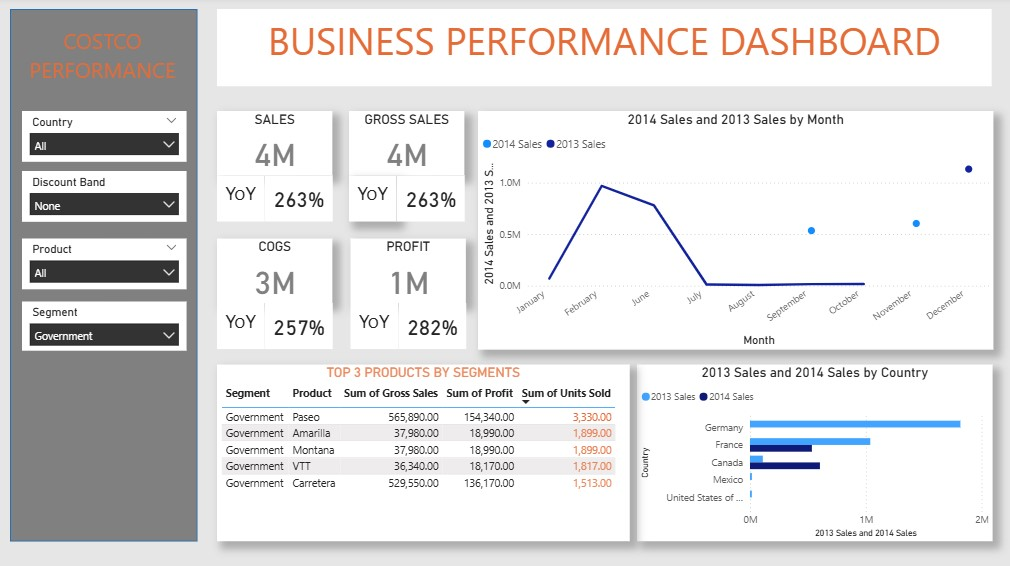

What the dashboard file says about the page in this screenshot:
{"tool":"powerbi","page":{"name":"Page 1","canvas":[1280,720],"ordinal":0},"visuals":[{"type":"shape","box":[15.1,15.1,236.2,670.9],"z":0},{"type":"textbox","box":[276.9,15.9,975.9,97.6],"z":1000},{"type":"card","title":"SALES","fields":{"Values":["Sum(financials. Sales)"]},"box":[276.9,143.4,145.4,81.7],"z":2000},{"type":"card","title":"PROFIT","fields":{"Values":["Sum(financials.Profit)"]},"box":[444.2,304.7,145.4,81.7],"z":3000},{"type":"card","title":"COGS","fields":{"Values":["Sum(financials.COGS)"]},"box":[276.9,304.7,145.4,81.7],"z":4000},{"type":"card","title":"GROSS SALES","fields":{"Values":["Sum(financials.Gross Sales)"]},"box":[442.2,143.4,145.4,81.7],"z":5000},{"type":"card","title":"SALES","fields":{"Values":["financials. Sales YoY%"]},"box":[336.6,225.1,85.6,57.8],"z":6000},{"type":"textbox","box":[276.9,225.1,59.8,57.8],"z":7000},{"type":"textbox","box":[276.9,386.4,59.8,57.8],"z":8000},{"type":"textbox","box":[444.2,386.4,59.8,57.8],"z":9000},{"type":"textbox","box":[442.2,225.1,59.8,57.8],"z":10000},{"type":"card","title":"SALES","fields":{"Values":["financials.COGS YoY%"]},"box":[336.6,386.4,85.6,57.8],"z":11000},{"type":"card","title":"SALES","fields":{"Values":["financials.Profit YoY%"]},"box":[503.9,386.4,85.6,57.8],"z":12000},{"type":"card","title":"SALES","fields":{"Values":["financials.Gross Sales YoY%"]},"box":[501.9,225.1,85.6,57.8],"z":13000},{"type":"lineChart","fields":{"Category":["financials.Date.Variation.Date Hierarchy.Month"],"Y":["financials.2014 Sales","financials.2013 Sales"]},"box":[605.5,143.4,649.3,300.8],"z":14000},{"type":"clusteredBarChart","fields":{"Category":["financials.Country"],"Y":["financials.2013 Sales","financials.2014 Sales"]},"box":[805,463,447.9,223],"z":15000},{"type":"tableEx","title":"TOP 3 PRODUCTS BY SEGMENTS","fields":{"Values":["financials.Segment","financials.Product","Sum(financials.Gross Sales)","Sum(financials.Profit)","Sum(financials.Units Sold)"]},"box":[275.9,463,519.7,223],"z":16000},{"type":"slicer","fields":{"Values":["financials.Country"]},"box":[29.9,143.4,207.1,63.7],"z":17000},{"type":"slicer","fields":{"Values":["financials.Discount Band"]},"box":[29.9,219.1,207.1,63.7],"z":18000},{"type":"slicer","fields":{"Values":["financials.Segment"]},"box":[29.9,384.4,207.1,61.7],"z":19000},{"type":"slicer","fields":{"Values":["financials.Product"]},"box":[29.9,304.7,207.1,63.7],"z":20000},{"type":"textbox","box":[13.9,31.9,237,97.6],"z":21000}]}

Visuals, with their boxes in screenshot pixels (x1, y1, x2, y2), scaled from the page's 1280x720 canvas onto the 1010x566 screenshot:
shape: [left=12, top=12, right=198, bottom=539]
textbox: [left=218, top=12, right=989, bottom=89]
"SALES" card: [left=218, top=113, right=333, bottom=177]
"PROFIT" card: [left=351, top=240, right=465, bottom=304]
"COGS" card: [left=218, top=240, right=333, bottom=304]
"GROSS SALES" card: [left=349, top=113, right=464, bottom=177]
"SALES" card: [left=266, top=177, right=333, bottom=222]
textbox: [left=218, top=177, right=266, bottom=222]
textbox: [left=218, top=304, right=266, bottom=349]
textbox: [left=351, top=304, right=398, bottom=349]
textbox: [left=349, top=177, right=396, bottom=222]
"SALES" card: [left=266, top=304, right=333, bottom=349]
"SALES" card: [left=398, top=304, right=465, bottom=349]
"SALES" card: [left=396, top=177, right=464, bottom=222]
lineChart - financials.Date.Variation.Date Hierarchy.Month x financials.2014 Sales: [left=478, top=113, right=990, bottom=349]
clusteredBarChart - financials.Country x financials.2013 Sales: [left=635, top=364, right=989, bottom=539]
"TOP 3 PRODUCTS BY SEGMENTS" tableEx: [left=218, top=364, right=628, bottom=539]
slicer - financials.Country: [left=24, top=113, right=187, bottom=163]
slicer - financials.Discount Band: [left=24, top=172, right=187, bottom=222]
slicer - financials.Segment: [left=24, top=302, right=187, bottom=351]
slicer - financials.Product: [left=24, top=240, right=187, bottom=290]
textbox: [left=11, top=25, right=198, bottom=102]
